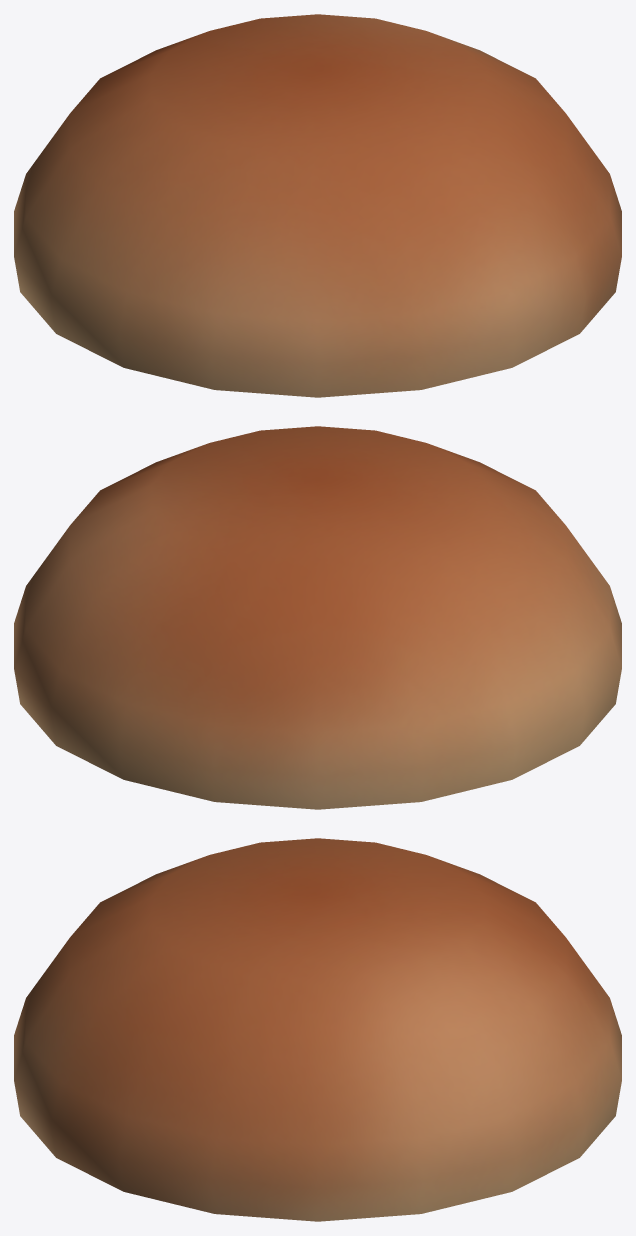
File: breadtop.FBX
3 renders of one model, top to bottom at view 1: azimuth 30°, elevation 25°; view 2: azimuth 150°, elevation 25°; view 3: azimuth 270°, elevation 25°, orthographic.
Parts seen in each view (by area): view 1: breadtop; view 2: breadtop; view 3: breadtop.
Part boxes in pixels (x1,y1,x2,y2): breadtop: (14, 14, 621, 397); breadtop: (14, 426, 621, 809); breadtop: (14, 838, 621, 1221).
Bounding box in the file's own units: 20.41 × 7.31 × 20.1.
